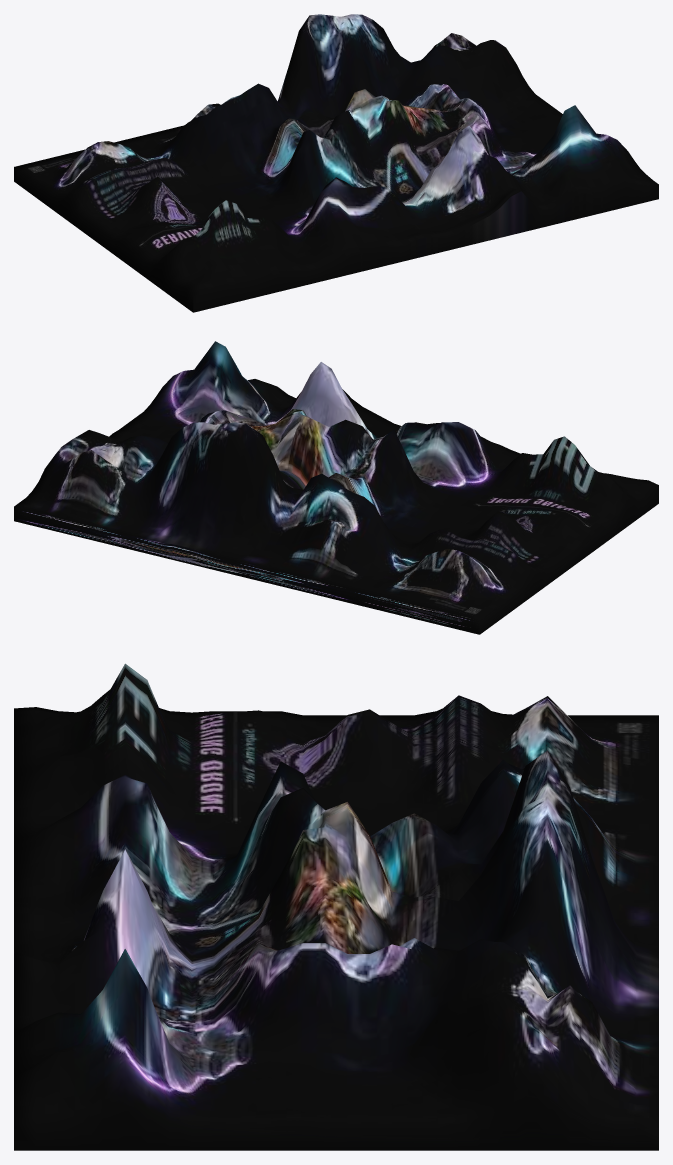
The model's file is CAREER_05_Tool_07_Serving_Drone.glb.
3 views of the same model, one above another, from view 1: azimuth 30°, elevation 25°; view 2: azimuth 150°, elevation 25°; view 3: azimuth 270°, elevation 25° (orthographic). The views are drawn at different scales.
Parts seen in each view (by area): view 1: CAREER_05_Tool_07_Serving_Drone; view 2: CAREER_05_Tool_07_Serving_Drone; view 3: CAREER_05_Tool_07_Serving_Drone.
Part boxes in pixels (x1=…): CAREER_05_Tool_07_Serving_Drone: x1=14, y1=14, x2=658, y2=312; CAREER_05_Tool_07_Serving_Drone: x1=14, y1=341, x2=658, y2=634; CAREER_05_Tool_07_Serving_Drone: x1=14, y1=663, x2=658, y2=1150.
Size of the model in its own units: 2 by 0.51 by 1.33.
1 material, 1 textured.
